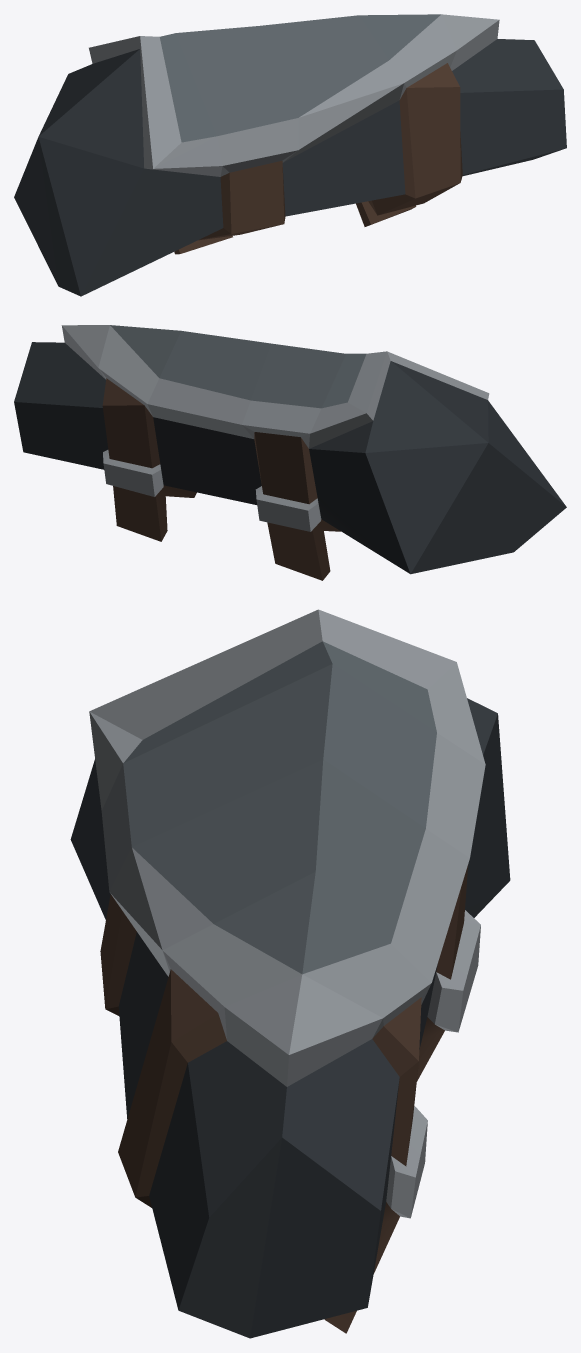
The model's file is Chr_ArmUpperLeft_Female_13_Static.fbx.
3 renders of one model, top to bottom at view 1: azimuth 30°, elevation 25°; view 2: azimuth 150°, elevation 25°; view 3: azimuth 270°, elevation 25°, orthographic. The views are drawn at different scales.
Visible parts, largest first — view 1: Chr_ArmUpperLeft_Female_13_Static; view 2: Chr_ArmUpperLeft_Female_13_Static; view 3: Chr_ArmUpperLeft_Female_13_Static.
Boxes of the visible parts, x1,y1,x2,y2 form: Chr_ArmUpperLeft_Female_13_Static: [14, 14, 566, 296]; Chr_ArmUpperLeft_Female_13_Static: [14, 325, 566, 580]; Chr_ArmUpperLeft_Female_13_Static: [70, 609, 510, 1338].
Bounding box in the file's own units: 0.3512 × 0.1634 × 0.136.
